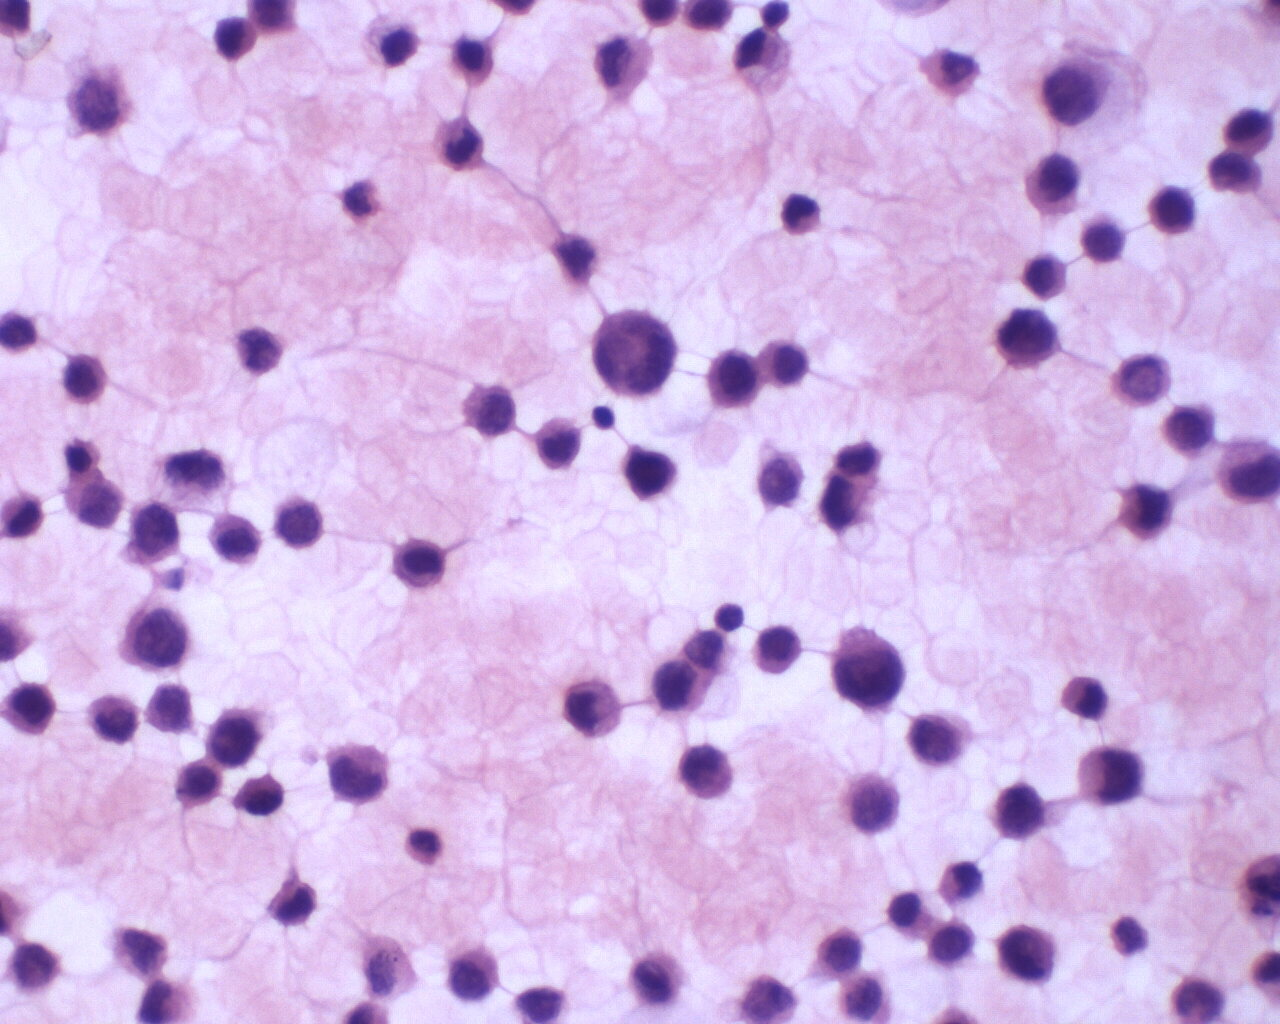ab: (827, 623, 908, 716), (591, 309, 678, 394), (113, 595, 194, 671), (316, 741, 396, 808), (988, 303, 1063, 375), (1074, 743, 1150, 810), (1212, 437, 1280, 506), (997, 920, 1060, 990), (201, 708, 273, 769), (441, 944, 508, 1007), (124, 501, 185, 569), (1021, 150, 1087, 213), (991, 775, 1052, 842), (1109, 348, 1177, 409), (645, 653, 716, 711), (676, 740, 740, 802), (1141, 180, 1204, 242), (463, 375, 519, 443), (620, 448, 688, 504), (63, 473, 126, 531), (907, 708, 965, 770), (84, 693, 143, 751), (848, 774, 905, 836), (271, 487, 324, 552), (1, 679, 59, 738), (204, 509, 261, 567), (1161, 405, 1216, 462), (61, 351, 110, 409), (813, 926, 866, 975)
meso: (702, 338, 760, 415)
